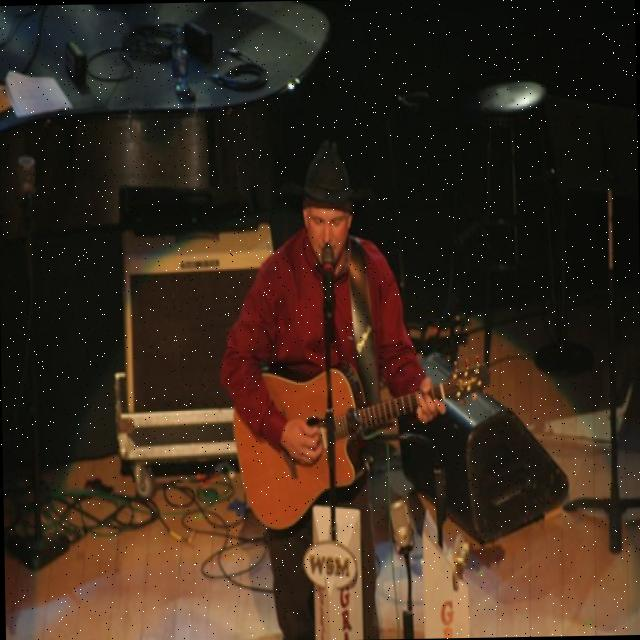guitar: (229, 353, 494, 534)
